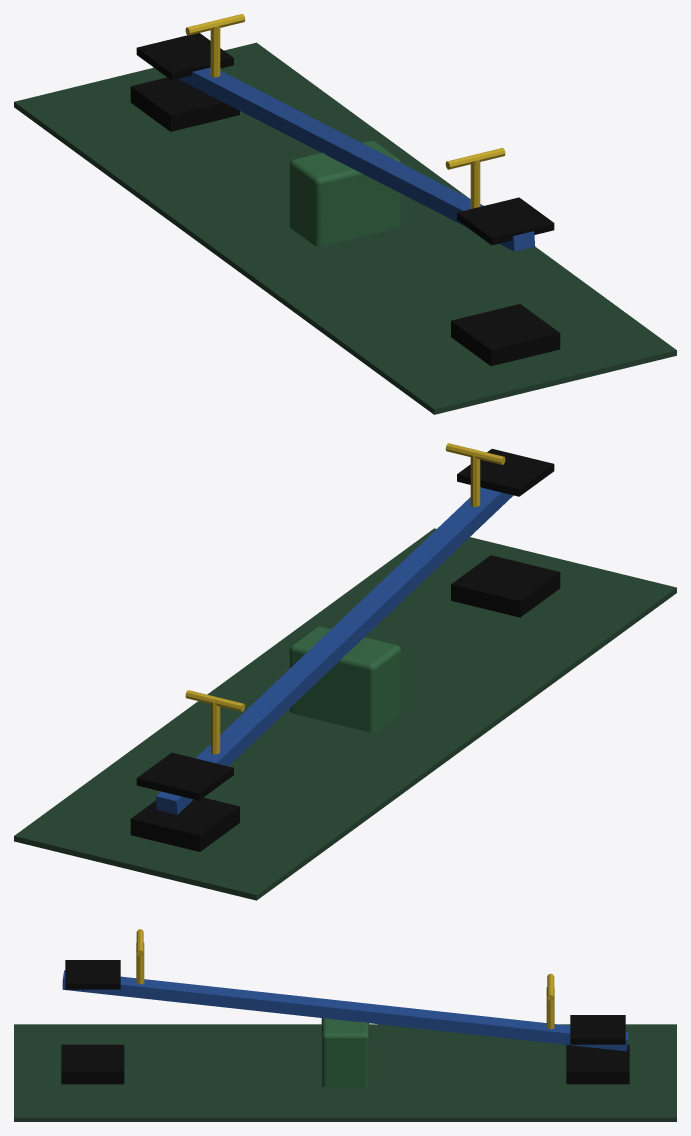
The model's file is sport.play.seesaw.glb.
The picture shows the model from 3 angles, top to bottom: view 1: azimuth 30°, elevation 25°; view 2: azimuth 150°, elevation 25°; view 3: azimuth 270°, elevation 25°; orthographic projection. The views are drawn at different scales.
Visible parts, largest first — view 1: main__paint_243, main__rubber, main__paint_259, main__paint_364, main__paint_ca2; view 2: main__paint_243, main__rubber, main__paint_259, main__paint_364, main__paint_ca2; view 3: main__paint_243, main__paint_259, main__rubber, main__paint_364, main__paint_ca2.
Part boxes in pixels (box(x1,y1,x2,y2)): main__paint_243: box(14, 42, 676, 414); main__rubber: box(130, 33, 560, 366); main__paint_259: box(178, 67, 535, 251); main__paint_364: box(289, 141, 401, 246); main__paint_ca2: box(185, 14, 505, 208); main__paint_243: box(14, 528, 676, 900); main__rubber: box(130, 449, 560, 851); main__paint_259: box(155, 487, 513, 814); main__paint_364: box(289, 626, 401, 732); main__paint_ca2: box(185, 443, 505, 754); main__paint_243: box(14, 1024, 676, 1121); main__paint_259: box(62, 970, 628, 1051); main__rubber: box(61, 960, 629, 1084); main__paint_364: box(321, 1018, 369, 1087); main__paint_ca2: box(136, 929, 554, 1029).
Size of the model in its own units: 1.4 by 0.9516 by 4.2.
